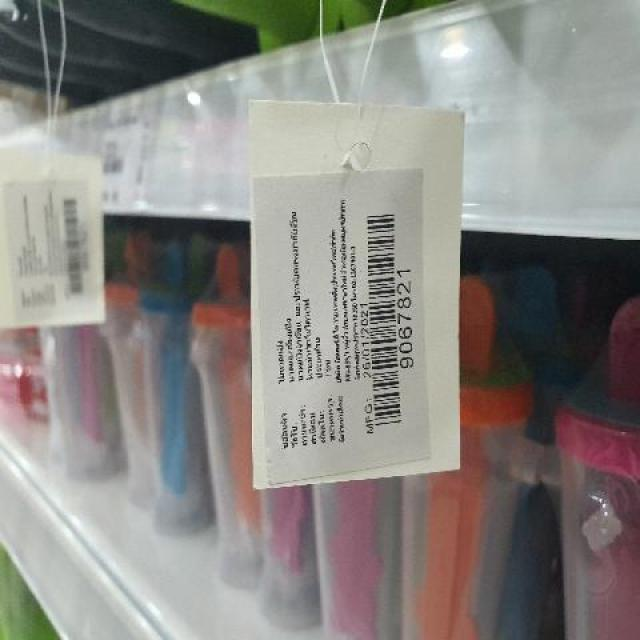Barcode: (362, 207, 417, 440)
